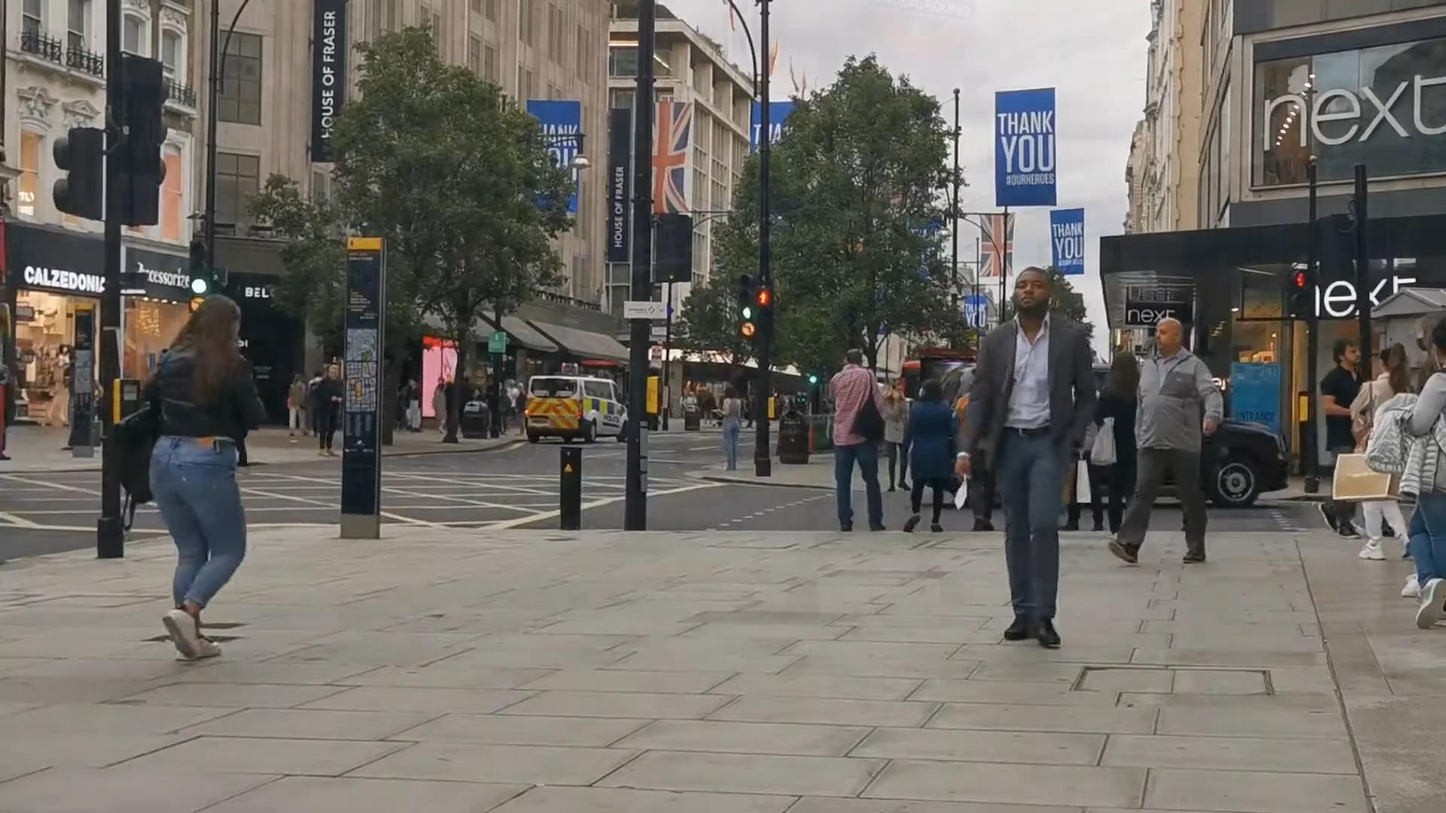no-helmet: (175, 292, 242, 366), (1013, 265, 1054, 314), (1414, 311, 1446, 355), (1379, 342, 1408, 376), (1156, 317, 1184, 352), (1332, 336, 1361, 369), (1110, 350, 1138, 384), (919, 378, 943, 402), (846, 348, 865, 368)
